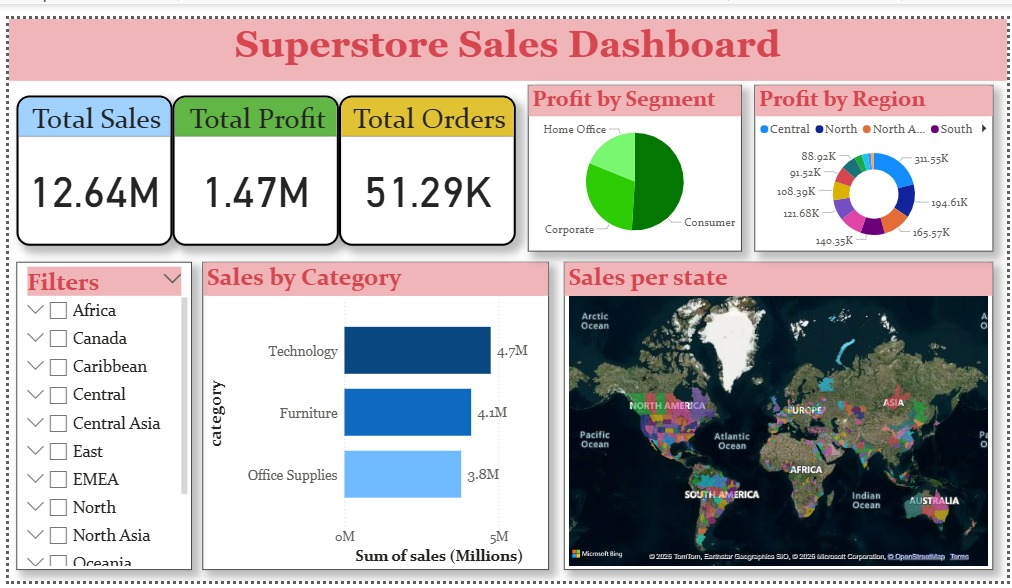

What the dashboard file says about the page in this screenshot:
{"tool":"powerbi","page":{"name":"Page 1","canvas":[1280,720],"ordinal":0},"visuals":[{"type":"card","title":"Total Sales","fields":{"Values":["Sum(public superstore.sales)"]},"box":[9.4,98.3,200.3,192.8],"z":0},{"type":"card","fields":{"Values":["CountNonNull(public superstore.order_id)"]},"box":[436.5,79.4,204.1,219.2],"z":1000},{"type":"textbox","box":[0,0,1279.4,79.4],"z":2000},{"type":"barChart","title":"Sales by Category","fields":{"Y":["Sum(public superstore.sales)"],"Category":["public superstore.category"]},"box":[247.6,311.8,444.1,395],"z":3000},{"type":"pieChart","title":"Profit by Segment","fields":{"Category":["public superstore.segment"],"Y":["Sum(public superstore.profit)"]},"box":[665.2,85,274,213.5],"z":4000},{"type":"filledMap","title":"Sales per state","fields":{"Category":["public superstore.state"],"Series":["public superstore.sales"]},"box":[712.4,311.8,549.9,395],"z":5000},{"type":"slicer","fields":{"Values":["public superstore.region","public superstore.category","public superstore.segment"]},"box":[9.4,311.8,224.9,395],"z":6000},{"type":"donutChart","title":"Profit by Region","fields":{"Category":["public superstore.region"],"Y":["Sum(public superstore.profit)"]},"box":[956.2,85,306.1,213.5],"z":7000},{"type":"card","title":"Total Profit","fields":{"Values":["Sum(public superstore.profit)"]},"box":[209.8,98.3,213.5,192.8],"z":8000},{"type":"card","title":"Total Orders","fields":{"Values":["CountNonNull(public superstore.order_id)"]},"box":[423.3,98.3,226.8,192.8],"z":9000}]}

Visuals, with their boxes in screenshot pixels (x1, y1, x2, y2):
"Total Sales" card: [13,90,169,240]
card - CountNonNull(public superstore.order_id): [346,75,505,246]
textbox: [5,13,1003,75]
"Sales by Category" barChart: [198,256,545,564]
"Profit by Segment" pieChart: [524,79,738,246]
"Sales per state" filledMap: [561,256,989,564]
slicer - public superstore.region x public superstore.category: [13,256,188,564]
"Profit by Region" donutChart: [751,79,989,246]
"Total Profit" card: [169,90,335,240]
"Total Orders" card: [335,90,512,240]
